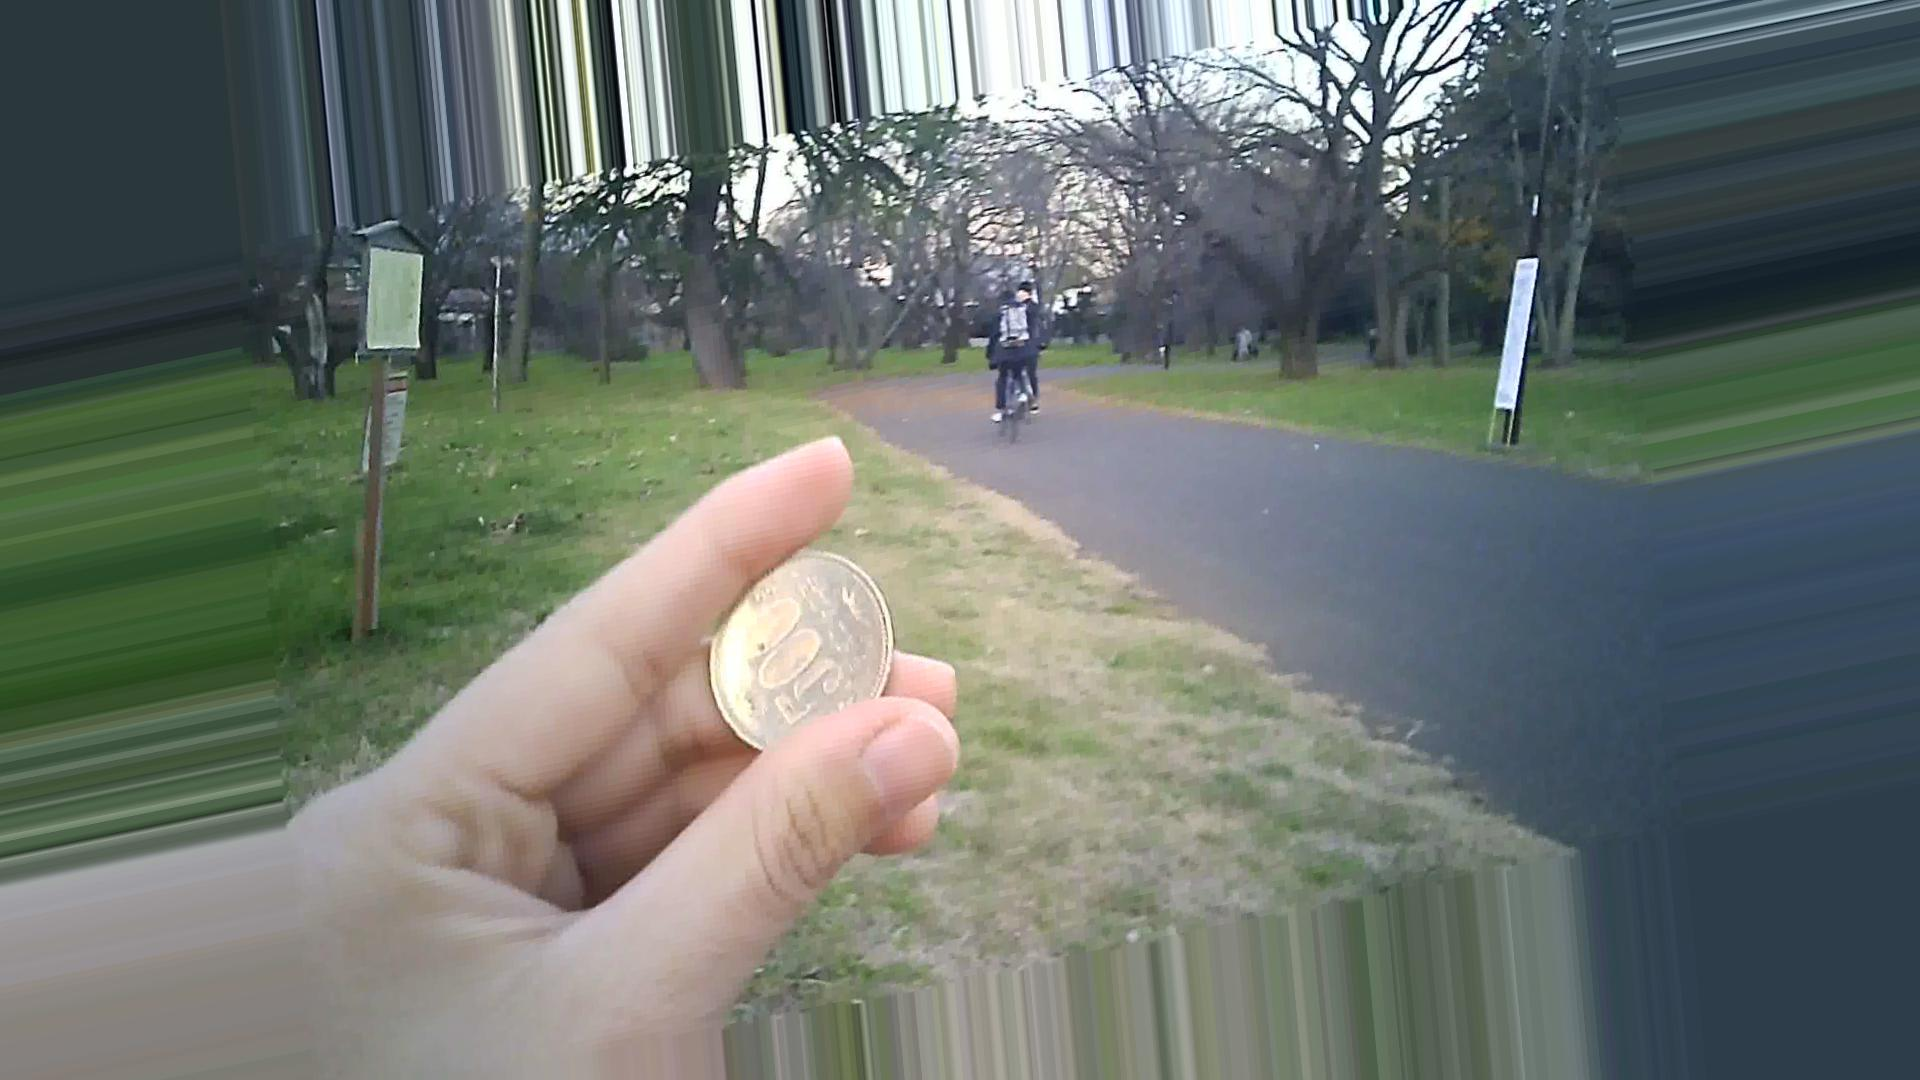500 Yen: (702, 549, 915, 760)
